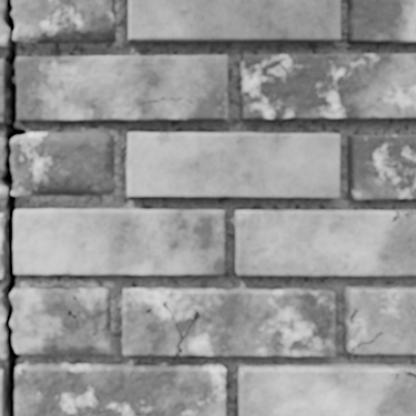brick: (123, 287, 333, 355), (14, 209, 224, 273), (127, 133, 338, 196), (16, 56, 226, 119), (234, 210, 415, 274), (15, 361, 225, 415), (240, 55, 415, 118), (238, 364, 415, 415), (128, 0, 339, 40), (344, 286, 415, 353), (347, 134, 415, 198), (347, 0, 415, 41), (0, 60, 5, 121), (0, 214, 3, 277), (0, 368, 3, 415)
broken_brick: (11, 285, 110, 354), (12, 131, 114, 195), (12, 0, 115, 42), (0, 0, 6, 47), (0, 301, 4, 359), (0, 136, 3, 176), (0, 183, 4, 199)
crack: (0, 0, 26, 415), (161, 298, 199, 355), (350, 331, 383, 353), (390, 209, 415, 222), (393, 368, 415, 380), (92, 322, 110, 335), (216, 224, 225, 236)
